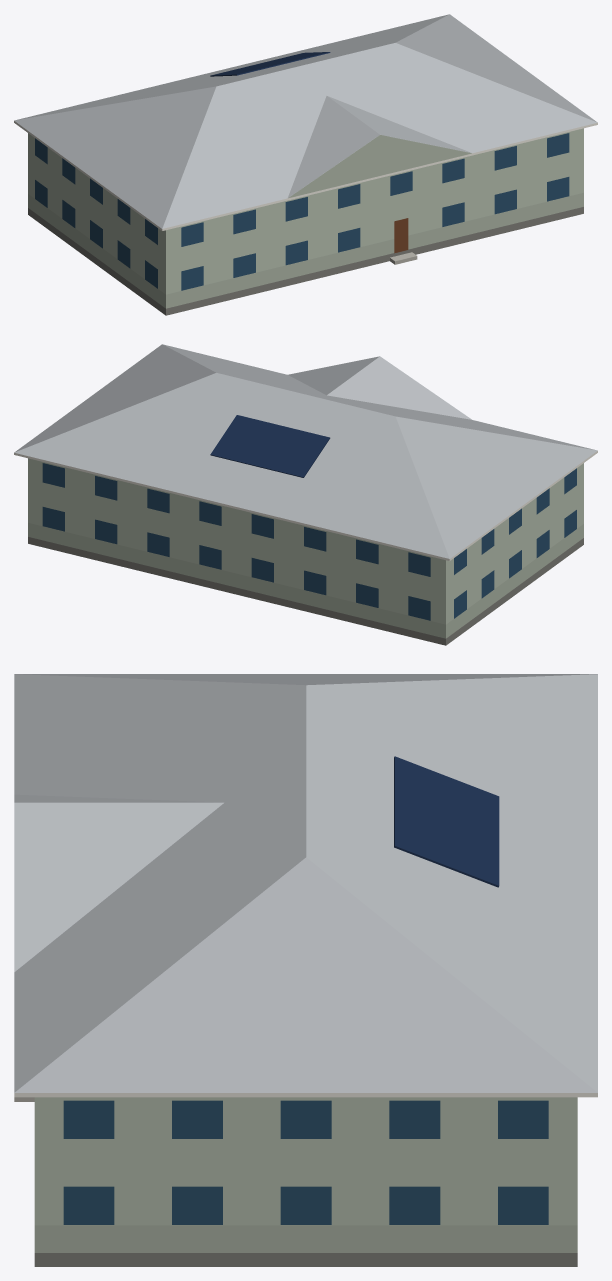
File: house_28x16_2f_lod1.glb
The picture shows the model from 3 angles, top to bottom: view 1: azimuth 30°, elevation 25°; view 2: azimuth 150°, elevation 25°; view 3: azimuth 270°, elevation 25°; orthographic projection. The views are drawn at different scales.
Visible parts, largest first — view 1: house; view 2: house; view 3: house.
Part boxes in pixels (bbox=[...]): house: bbox=[14, 14, 597, 315]; house: bbox=[14, 344, 597, 645]; house: bbox=[14, 674, 597, 1266].
Bounding box in the file's own units: 29.2 × 9.59 × 17.21.
